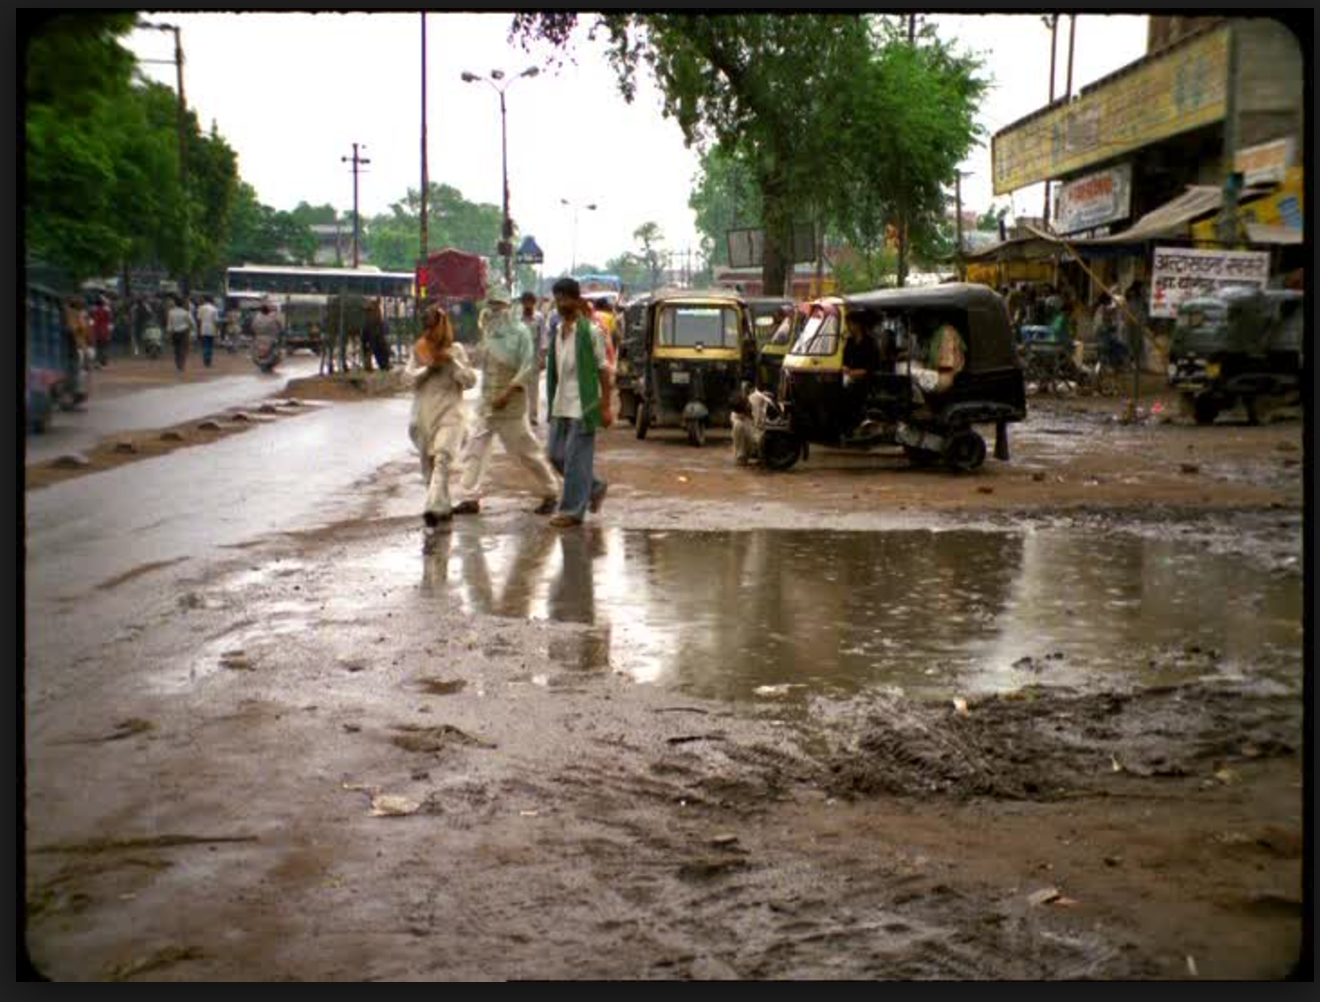person: (462, 283, 570, 536), (393, 298, 497, 535), (540, 271, 624, 538), (183, 289, 223, 372), (170, 300, 193, 371)
tree: (531, 1, 900, 298), (849, 19, 997, 263)
water: (494, 535, 1199, 615), (626, 601, 1177, 675), (1143, 580, 1309, 639)
